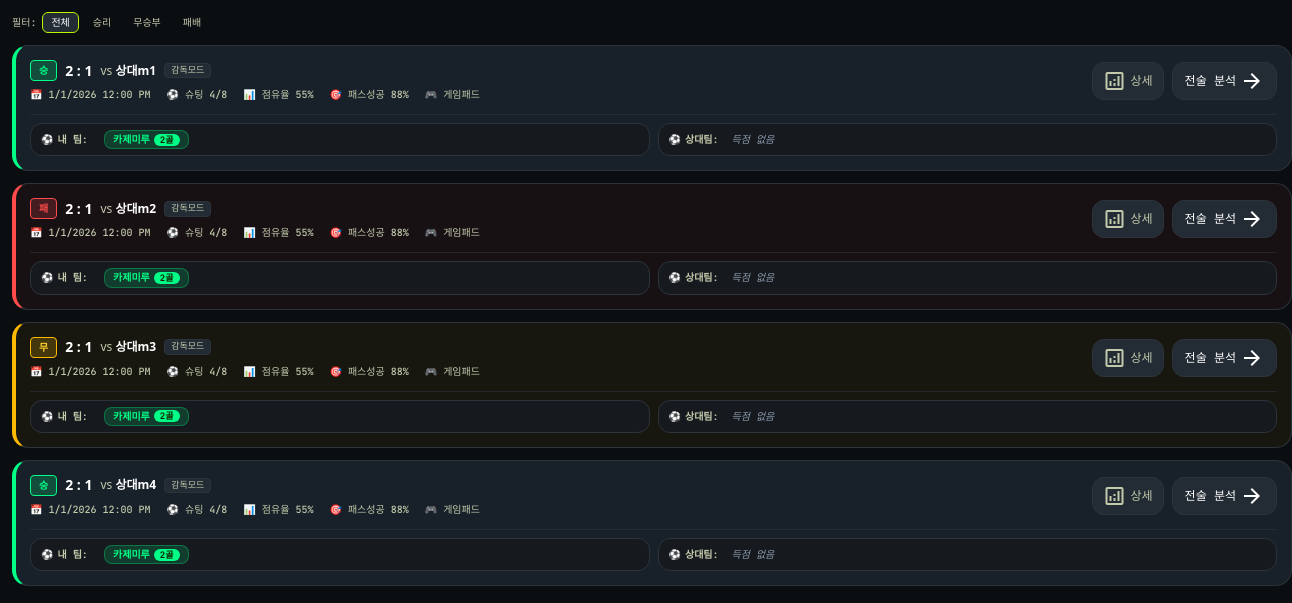
Scenario: MatchHistoryList › 승리 필터는 승리 경기만 남긴다
Step 1. Click the button "승리" → (102, 22), box [85,13,119,32]
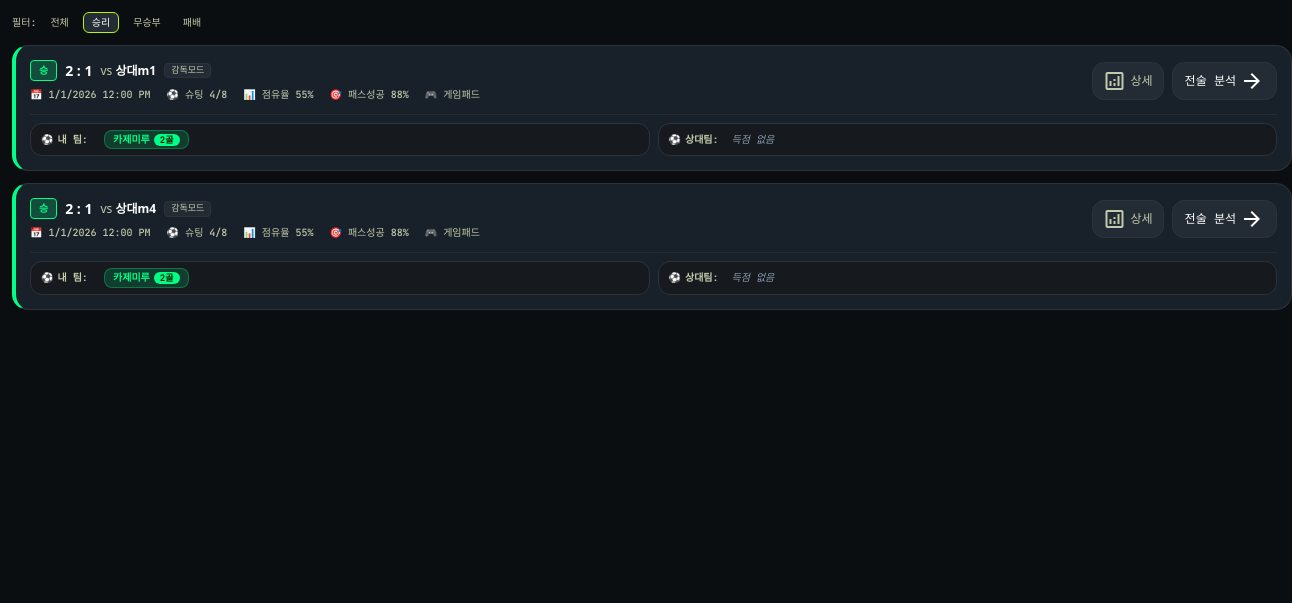
Expected: the text "상대m1" is shown, [116,62,156,78]
Now the text "상대m1" is shown 2 times, box [116,62,156,78]; [116,200,156,217]
Now the text "상대m2" is gone
